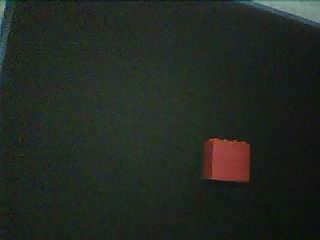lego: (202, 135, 252, 184)
